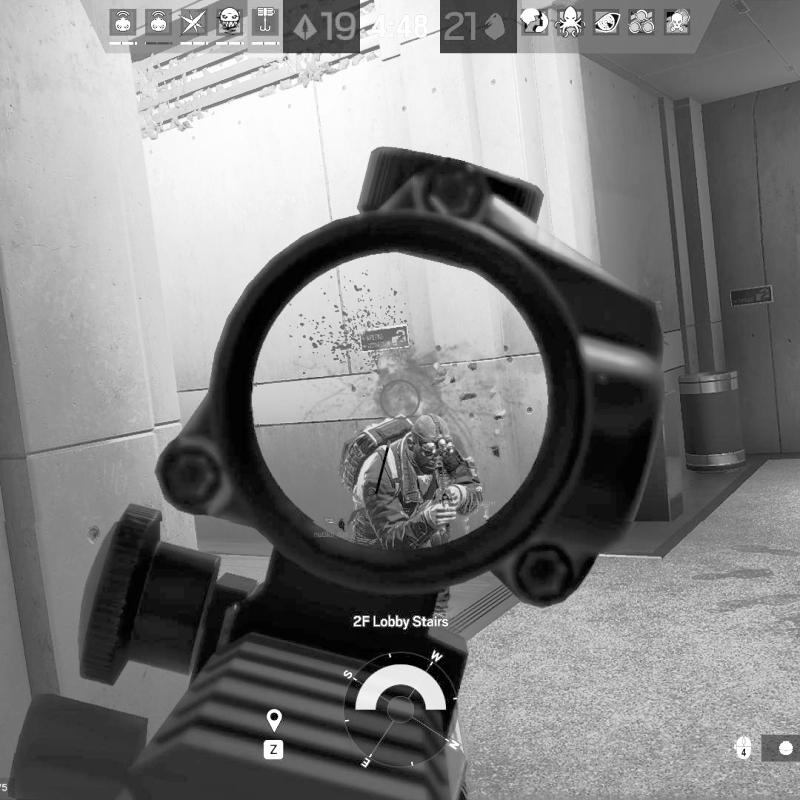Character: (337, 412, 486, 554)
Friend_label: (459, 482, 499, 508), (314, 515, 348, 540)
Head: (404, 413, 455, 476)
